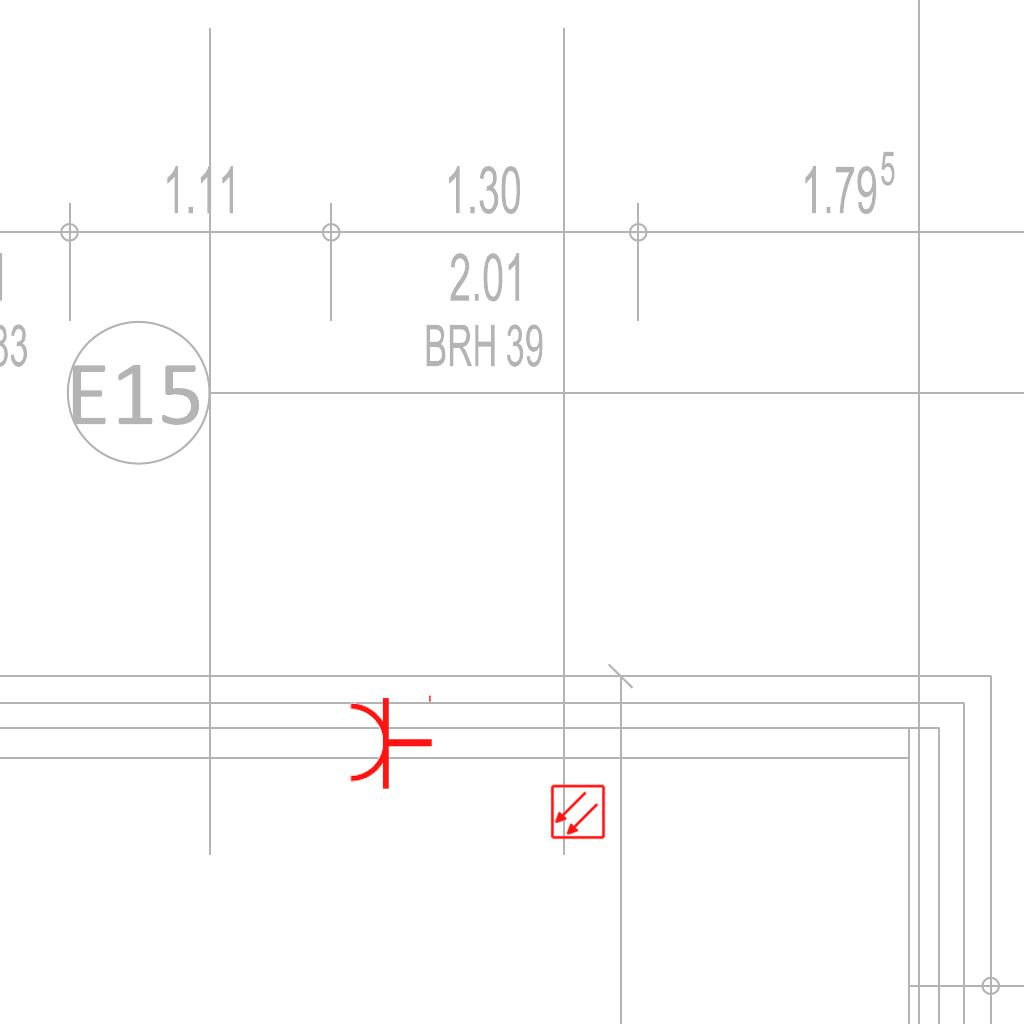RMO_Rauchmelder_optischer: (550, 784, 606, 840)
Schukosteckdose_einfach: (347, 691, 434, 791)
